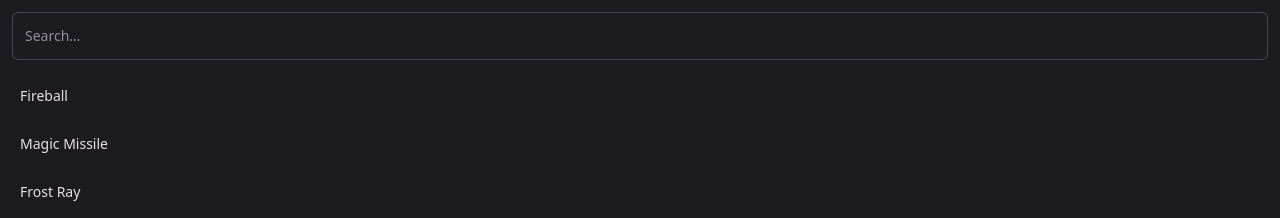
SearchList › shows the filtered-empty state with distinct default copy when a query matches nothing
Type "zzz" into the search field with placeholder "Search…". click: x=640, y=36
box: [12, 12, 1268, 60]
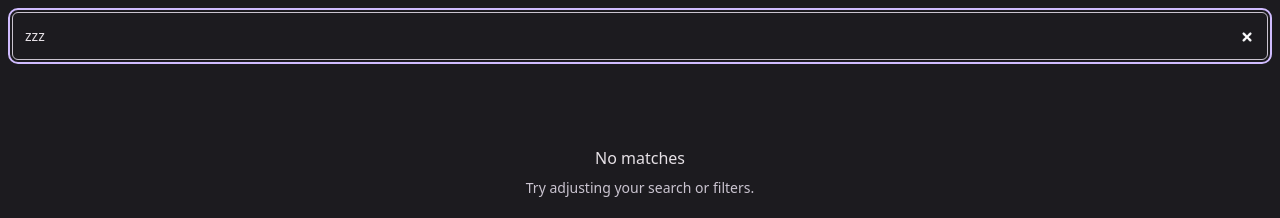
Result: the heading "No matches" is shown at [595, 146, 685, 170]
